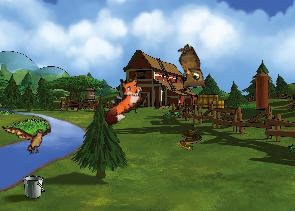eagle: (2, 114, 56, 160)
fox: (91, 70, 153, 128)
owl: (165, 42, 211, 96)
